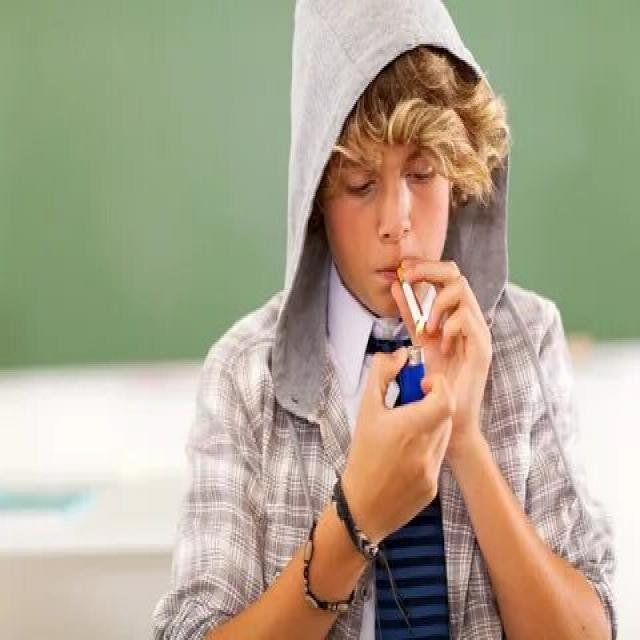smoke: (395, 266, 429, 340)
